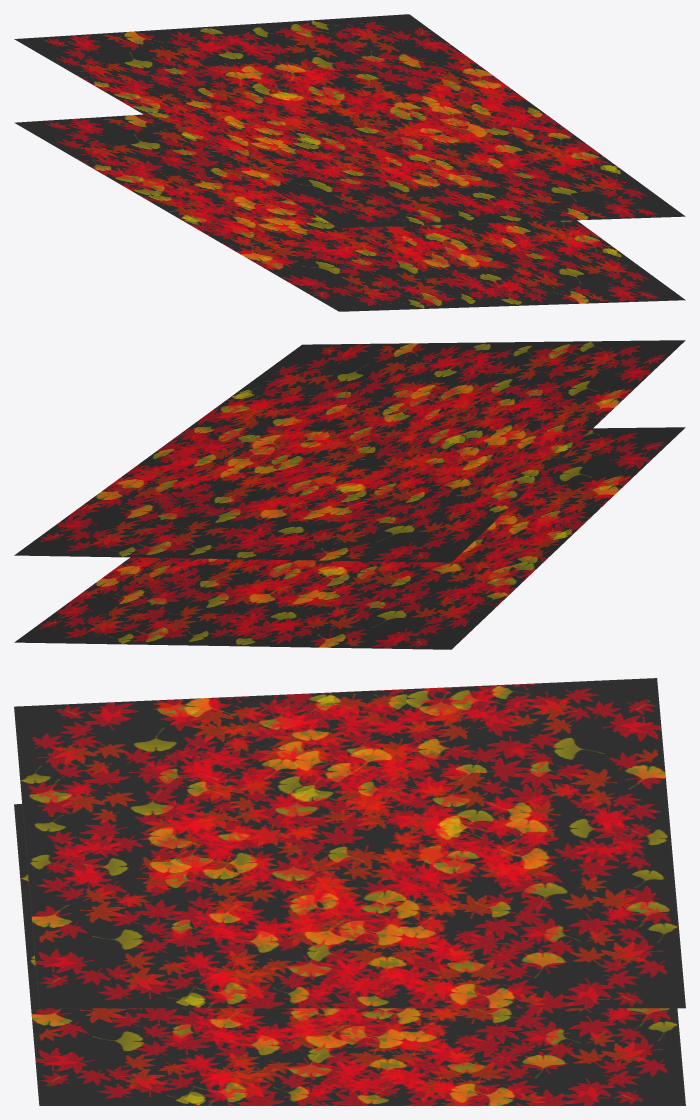
File: OBJ_CourseAki_CurveFloor_3_15.fbx
3 renders of one model, top to bottom at view 1: azimuth 30°, elevation 25°; view 2: azimuth 150°, elevation 25°; view 3: azimuth 270°, elevation 25°, orthographic. The views are drawn at different scales.
Parts seen in each view (by area): view 1: polySurface133, polySurface134; view 2: polySurface133, polySurface134; view 3: polySurface133, polySurface134.
Part boxes in pixels (x1,y1,x2,y2): polySurface133: [14, 14, 685, 228]; polySurface134: [14, 114, 685, 311]; polySurface133: [14, 340, 685, 562]; polySurface134: [14, 427, 685, 649]; polySurface133: [14, 678, 685, 1008]; polySurface134: [14, 804, 685, 1105].
Bounding box in the file's own units: 5.1 × 2 × 6.23.
Materials: 1 (1 with a texture image).
